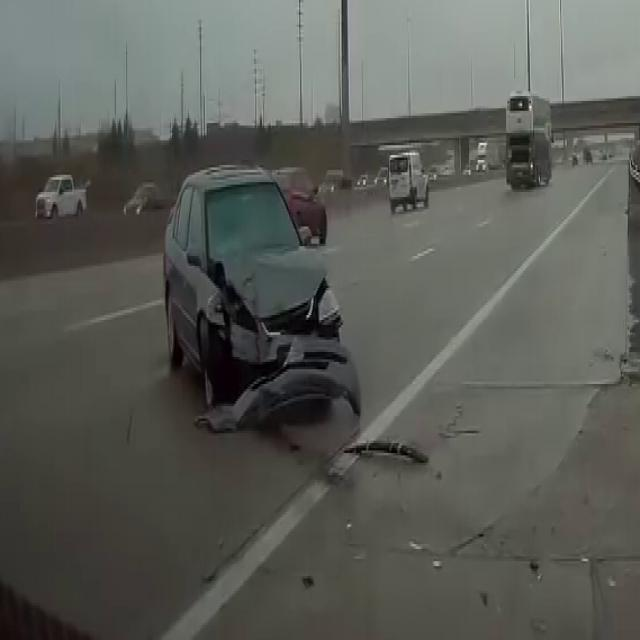accident: (156, 177, 381, 452)
